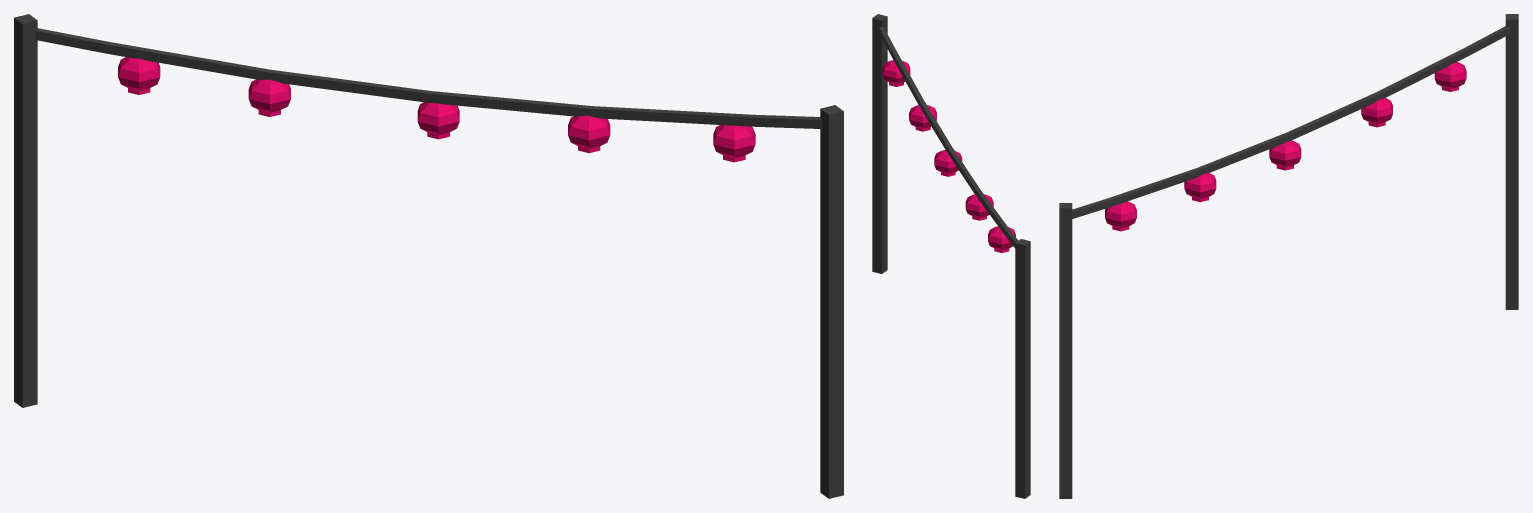
Rendered from lightString.fbx.
The picture shows the model from 3 angles, left to right: view 1: azimuth 30°, elevation 25°; view 2: azimuth 150°, elevation 25°; view 3: azimuth 270°, elevation 25°; orthographic projection. The views are drawn at different scales.
Parts seen in each view (by area): view 1: polySurface4; view 2: polySurface4; view 3: polySurface4.
Part boxes in pixels (bbox=[...]): polySurface4: bbox=[14, 14, 843, 498]; polySurface4: bbox=[872, 14, 1030, 498]; polySurface4: bbox=[1059, 14, 1518, 498].
Size of the model in its own units: 115 by 80.22 by 115.
